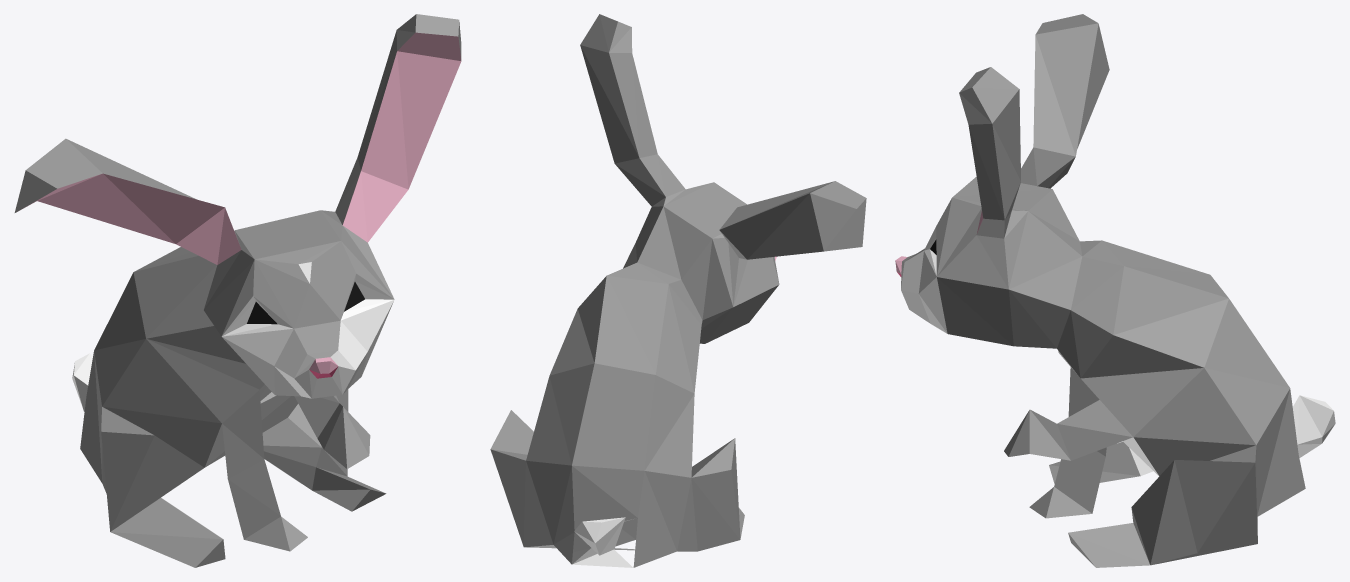
The model's file is Gray Rabbit.glb.
The picture shows the model from 3 angles, left to right: view 1: azimuth 30°, elevation 25°; view 2: azimuth 150°, elevation 25°; view 3: azimuth 270°, elevation 25°; orthographic projection. The views are drawn at different scales.
Parts seen in each view (by area): view 1: Node; view 2: Node; view 3: Node.
Boxes of the visible parts, <box> form: Node: <box>14,14,461,567</box>; Node: <box>490,14,866,567</box>; Node: <box>895,14,1335,567</box>.
Size of the model in its own units: 0.5898 by 0.759 by 0.6136.
